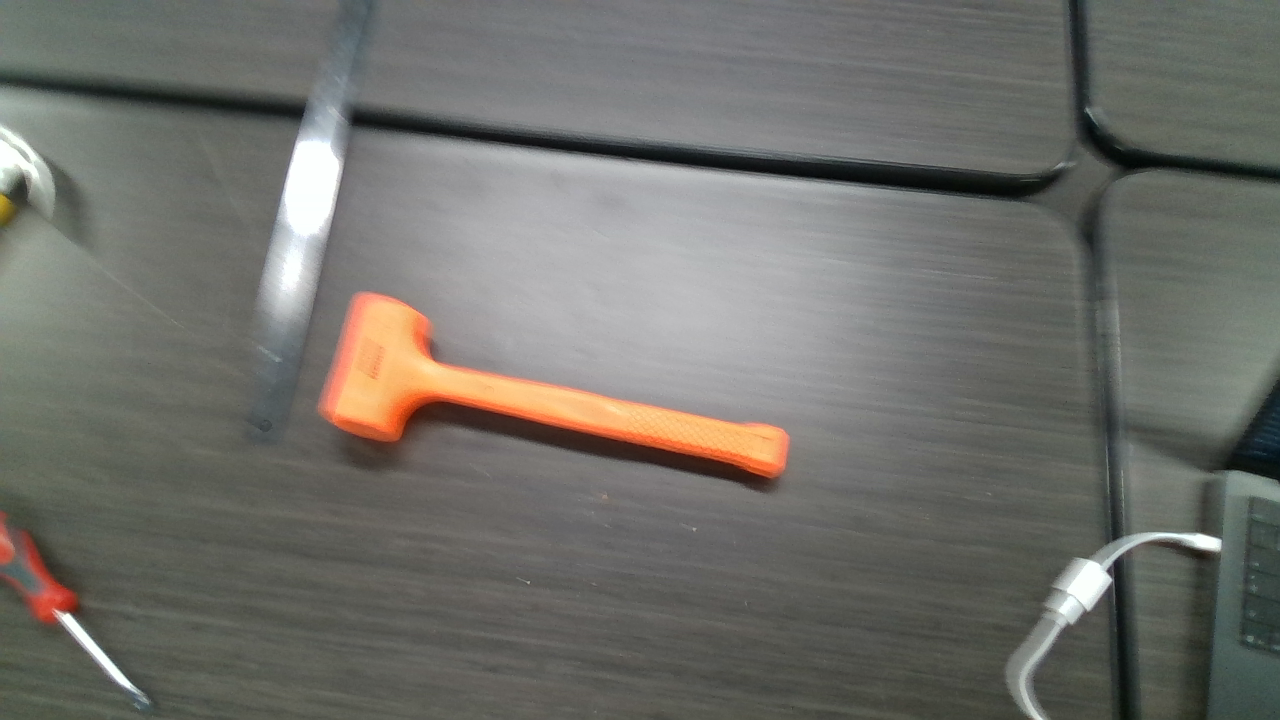Orange Hammer: (324, 292, 792, 479)
